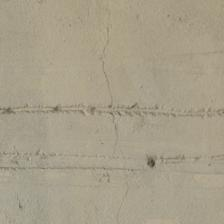Crack: (60, 50, 167, 175), (86, 64, 145, 224), (0, 15, 66, 60), (205, 205, 224, 224)
